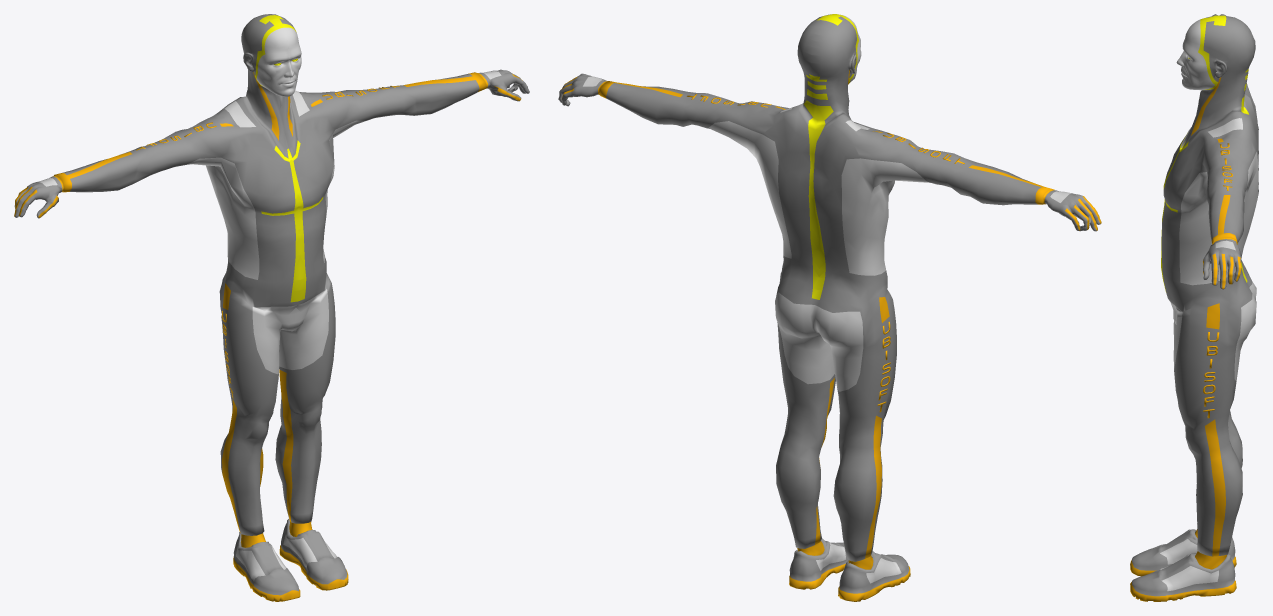
File: model_skeleton_glb_mesh_only.fbx
The picture shows the model from 3 angles, left to right: view 1: azimuth 30°, elevation 25°; view 2: azimuth 150°, elevation 25°; view 3: azimuth 270°, elevation 25°; orthographic projection. The views are drawn at different scales.
Parts seen in each view (by area): view 1: Model:Mesh; view 2: Model:Mesh; view 3: Model:Mesh.
Boxes of the visible parts, box(x1,y1,x2,y2) form: Model:Mesh: box(14, 14, 529, 601); Model:Mesh: box(558, 14, 1101, 601); Model:Mesh: box(1130, 14, 1258, 601).
Size of the model in its own units: 182 by 185 by 38.42.
